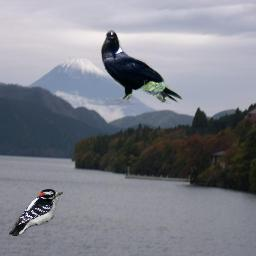Crow: (100, 30, 183, 105)
Woodpecker: (7, 189, 63, 236)
